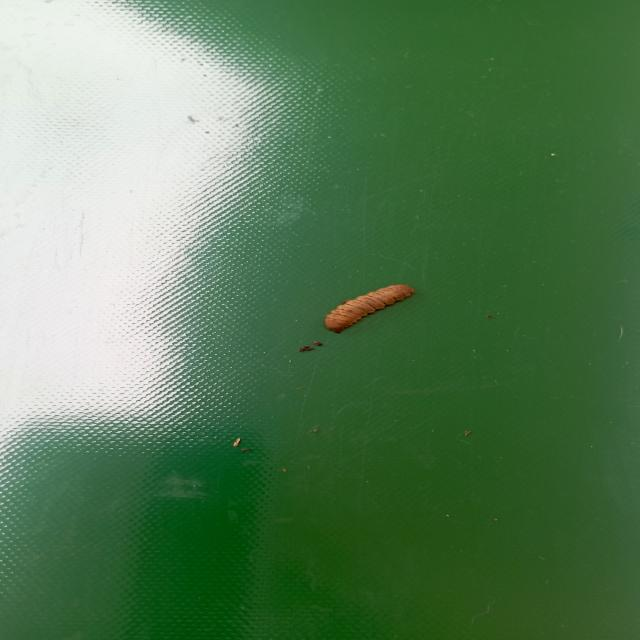Maggot: (323, 283, 413, 335)
